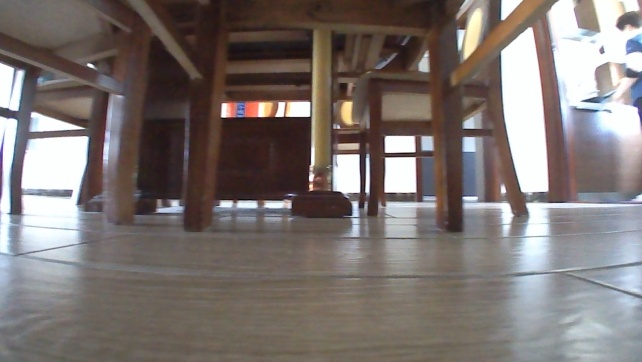dining_table1: (0, 0, 557, 235)
